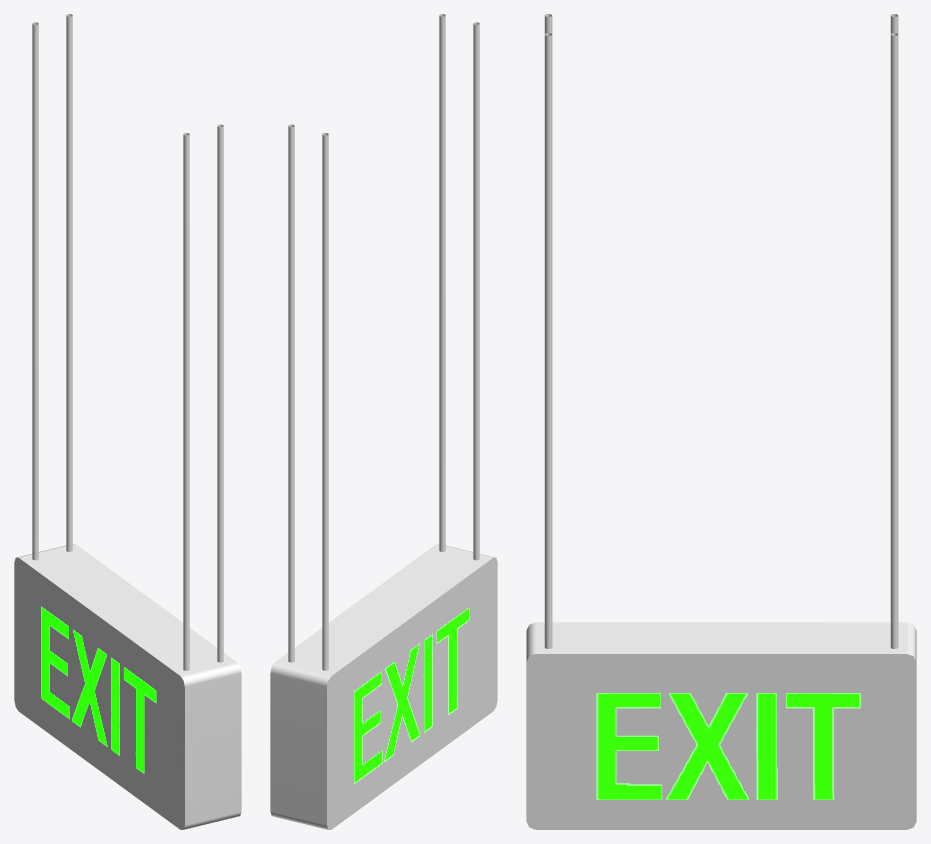
File: exit.glb
3 views of the same model, side by side, from view 1: azimuth 30°, elevation 25°; view 2: azimuth 150°, elevation 25°; view 3: azimuth 270°, elevation 25° (orthographic). The views are drawn at different scales.
Parts seen in each view (by area): view 1: Sign, Cables; view 2: Sign, Cables; view 3: Sign, Cables.
Part boxes in pixels (x1=…): Sign: x1=14, y1=544, x2=241, y2=829; Cables: x1=32, y1=14, x2=223, y2=670; Sign: x1=270, y1=544, x2=497, y2=829; Cables: x1=288, y1=14, x2=479, y2=670; Sign: x1=526, y1=622, x2=916, y2=829; Cables: x1=544, y1=14, x2=898, y2=648.
Bounding box in the file's own units: 1 × 11.61 × 5.2.
Materials: 1 (1 with a texture image).
